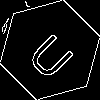U: (25, 25, 83, 83)
